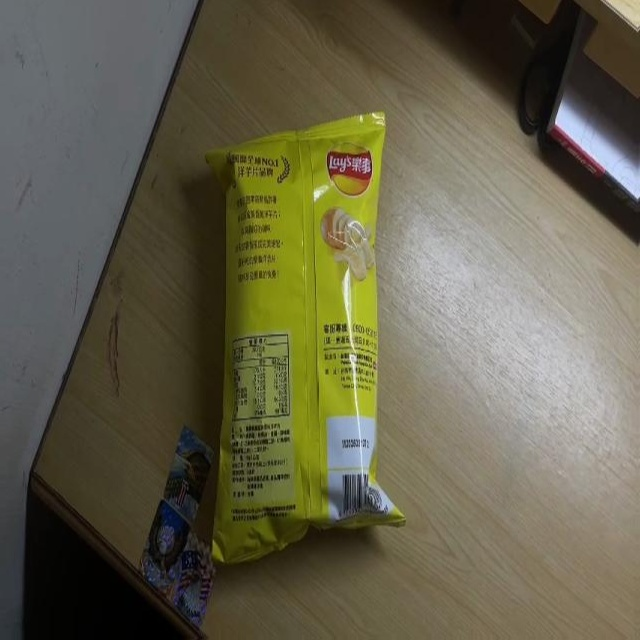Lay-s-original: (205, 113, 409, 566)
